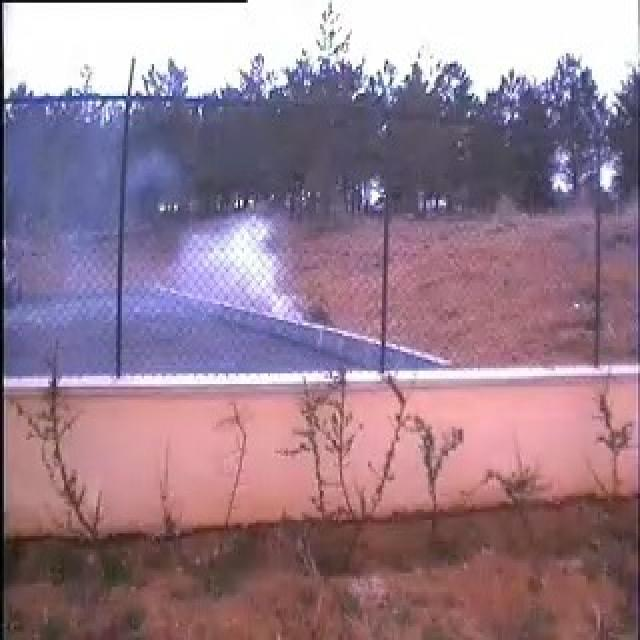smoke: (130, 186, 308, 362)
